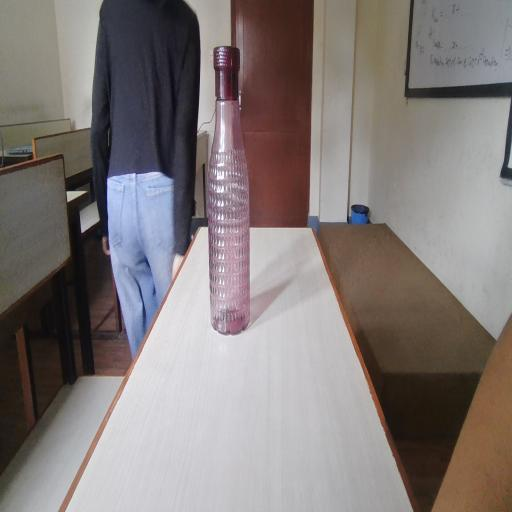Bottle: (197, 37, 271, 340)
